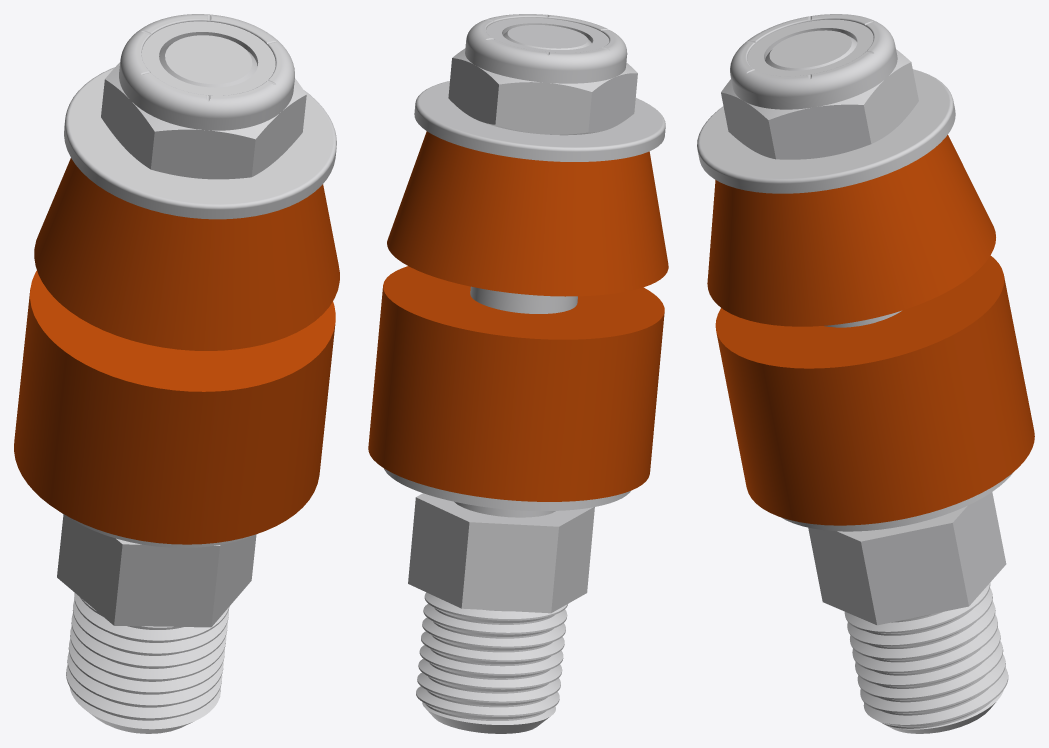
File: Kingpin-bujes.glb
3 views of the same model, side by side, from view 1: azimuth 30°, elevation 25°; view 2: azimuth 150°, elevation 25°; view 3: azimuth 270°, elevation 25° (orthographic). The views are drawn at different scales.
Parts seen in each view (by area): view 1: object 7, object 6, 93712A700_Partially Threaded Stud with Cotter Pin, 97231A470_Mil. Spec. Thin Nylon-Insert Locknut (×2), Imported1 (×2); view 2: object 7, 93712A700_Partially Threaded Stud with Cotter Pin, object 6, 97231A470_Mil. Spec. Thin Nylon-Insert Locknut (×2), Imported1 (×2); view 3: object 7, object 6, 93712A700_Partially Threaded Stud with Cotter Pin, 97231A470_Mil. Spec. Thin Nylon-Insert Locknut (×2), Imported1 (×2).
Part boxes in pixels (left/top/right/bottom): object 7: left=14, top=270, right=335, bottom=544; object 6: left=34, top=158, right=339, bottom=350; 93712A700_Partially Threaded Stud with Cotter Pin: left=57, top=35, right=257, bottom=733; 97231A470_Mil. Spec. Thin Nylon-Insert Locknut (×2): left=101, top=14, right=306, bottom=179; Imported1 (×2): left=62, top=67, right=336, bottom=547; object 7: left=368, top=266, right=664, bottom=501; 93712A700_Partially Threaded Stud with Cotter Pin: left=408, top=25, right=594, bottom=733; object 6: left=387, top=131, right=668, bottom=296; 97231A470_Mil. Spec. Thin Nylon-Insert Locknut (×2): left=448, top=14, right=637, bottom=135; Imported1 (×2): left=384, top=81, right=665, bottom=511; object 7: left=715, top=255, right=1034, bottom=525; object 6: left=707, top=135, right=995, bottom=326; 93712A700_Partially Threaded Stud with Cotter Pin: left=765, top=30, right=1008, bottom=733; 97231A470_Mil. Spec. Thin Nylon-Insert Locknut (×2): left=721, top=14, right=918, bottom=159; Imported1 (×2): left=697, top=69, right=1013, bottom=531.
Bounding box in the file's own units: 0.025 × 0.0641 × 0.0288.
